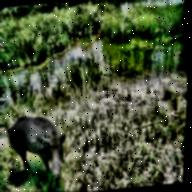boar: (0, 94, 92, 192)
